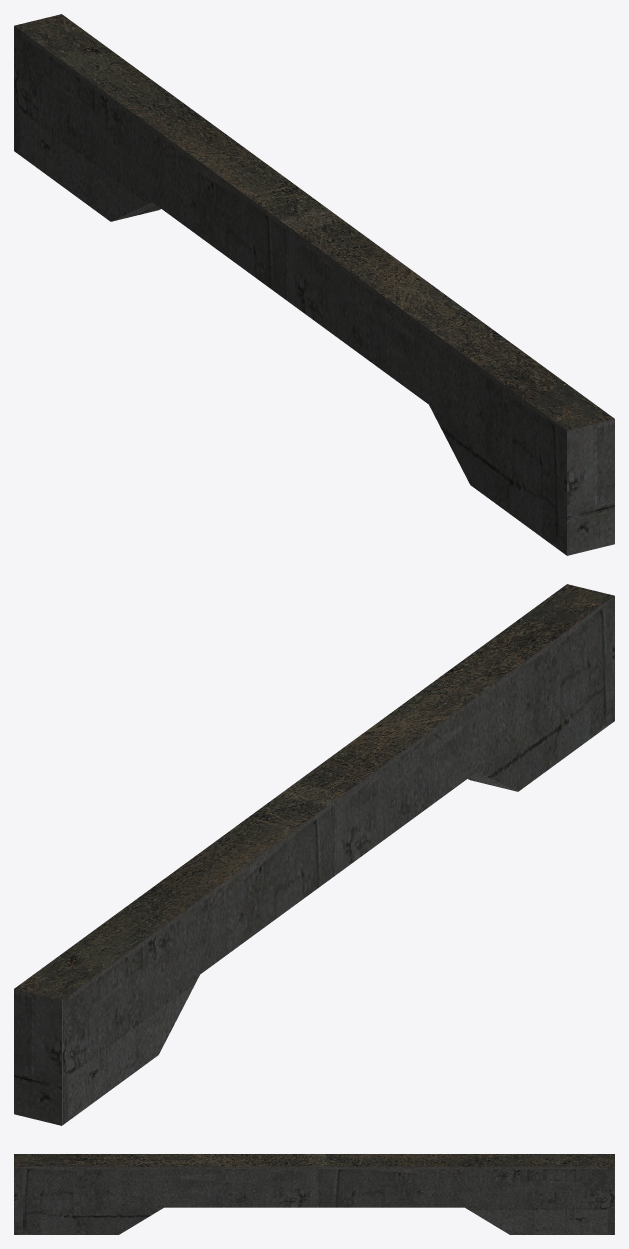
The model's file is beam_rtx_1.glb.
3 views of the same model, one above another, from view 1: azimuth 30°, elevation 25°; view 2: azimuth 150°, elevation 25°; view 3: azimuth 270°, elevation 25° (orthographic). The views are drawn at different scales.
Parts seen in each view (by area): view 1: beam_rtx_1; view 2: beam_rtx_1; view 3: beam_rtx_1.
Boxes of the visible parts, left/top/right/bottom form: beam_rtx_1: left=14, top=14, right=614, bottom=555; beam_rtx_1: left=14, top=584, right=614, bottom=1125; beam_rtx_1: left=14, top=1154, right=614, bottom=1234.
Size of the model in its own units: 0.2 by 0.5 by 4.
2 materials, 2 textured.
